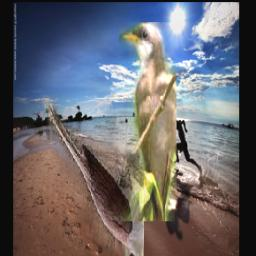Cuckoo: (41, 95, 144, 256), (120, 23, 177, 222)
